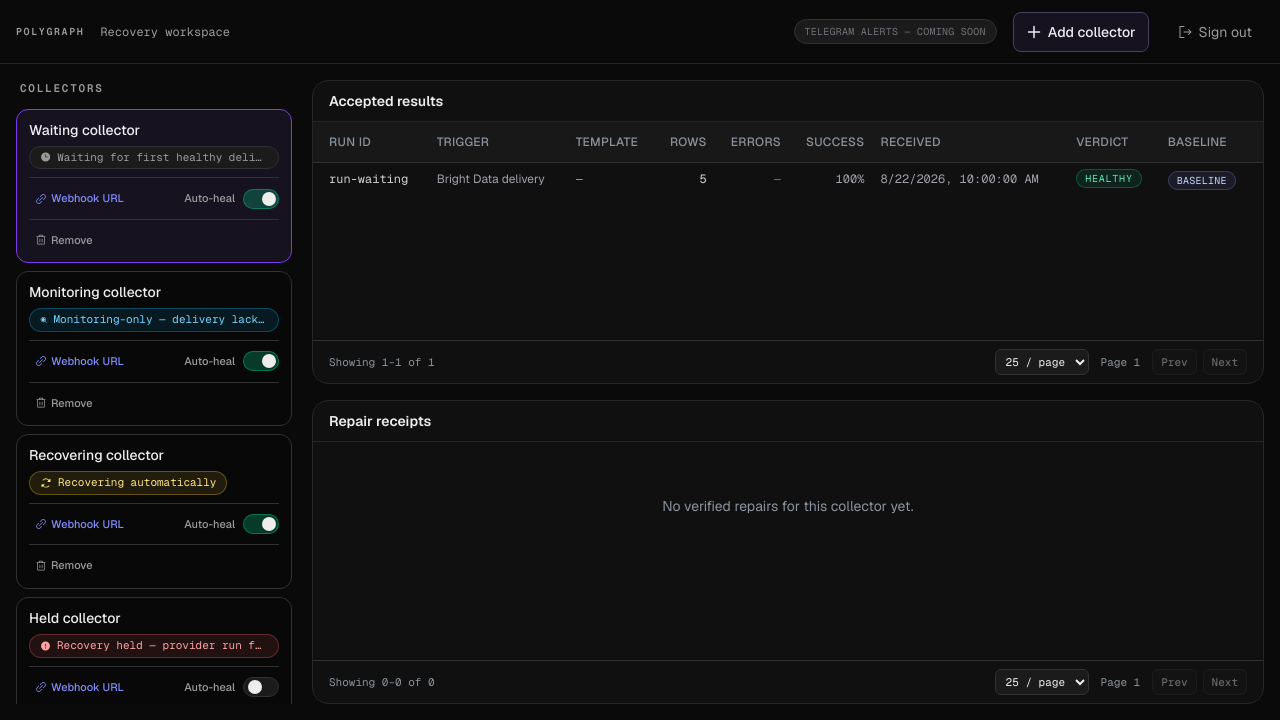
RecoveryWorkspace — selection swaps both tables › loads a different collector's deliveries and repairs when a new row is selected
Expected: the text "run-waiting" is shown, [313,162,429,194]
Expected: the text "run-monitoring" is not shown
Click the button "Monitoring collector": (154, 307) [29,282,279,332]
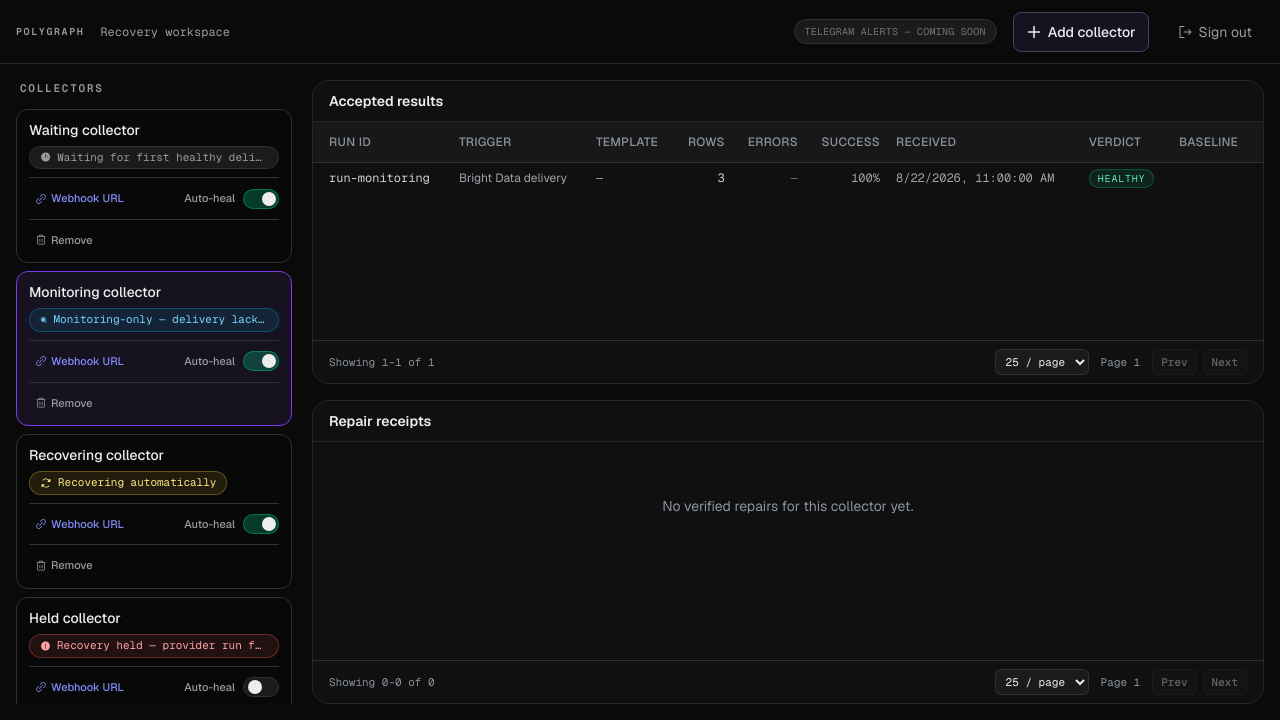
Now the text "run-monitoring" is shown, box [313,162,451,194]
Now the text "run-waiting" is gone
